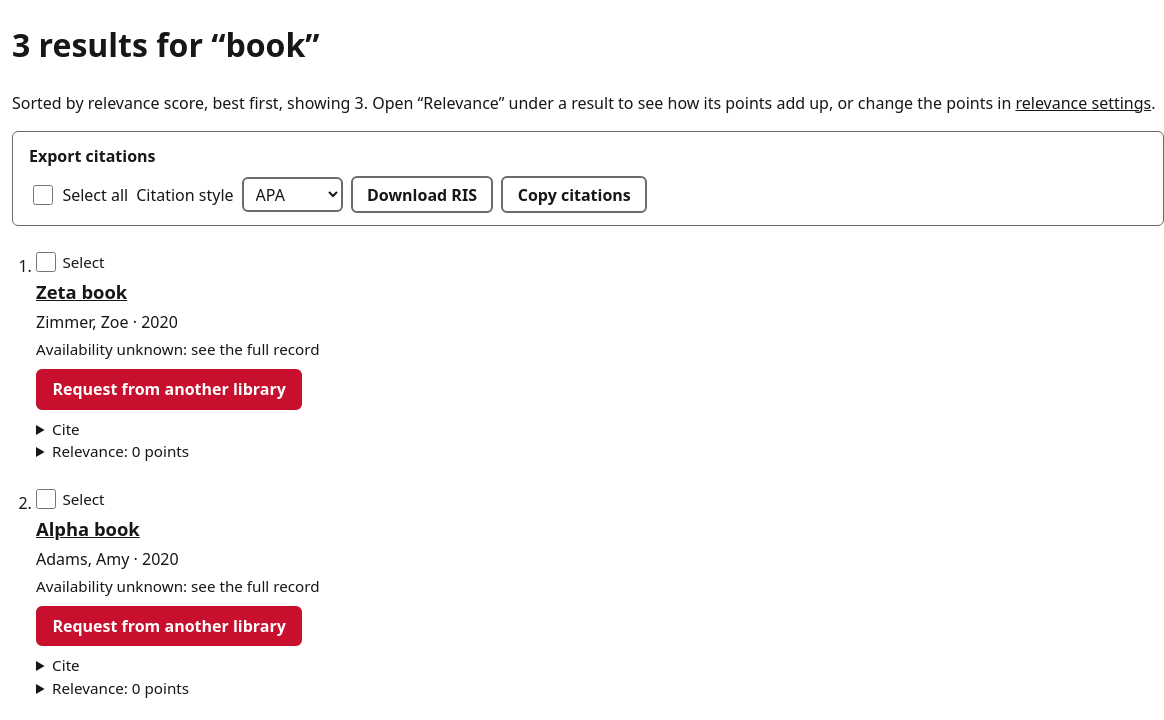
Scenario: count follows checkbox clicks
The width and height of the screenshot is (1164, 720).
Click the 2nd checkbox labelled "Select". click: (46, 499)
box: [36,489,56,509]
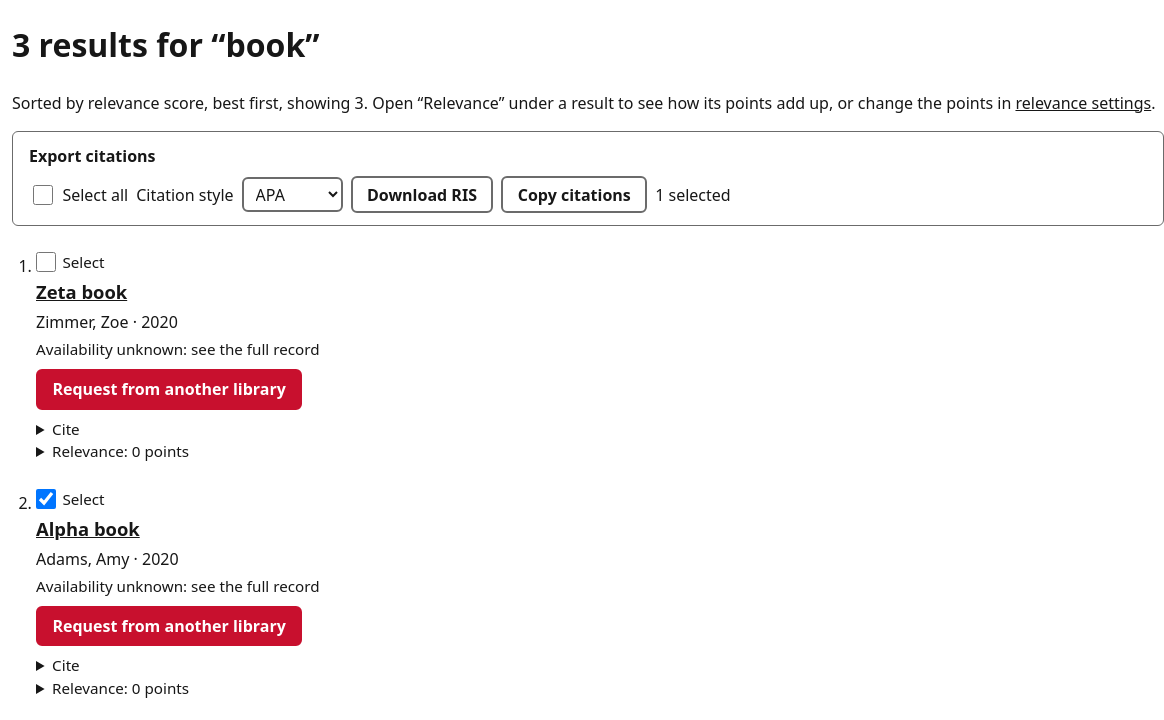
expect the message "1 selected" is shown: met, box [655,183,731,207]
